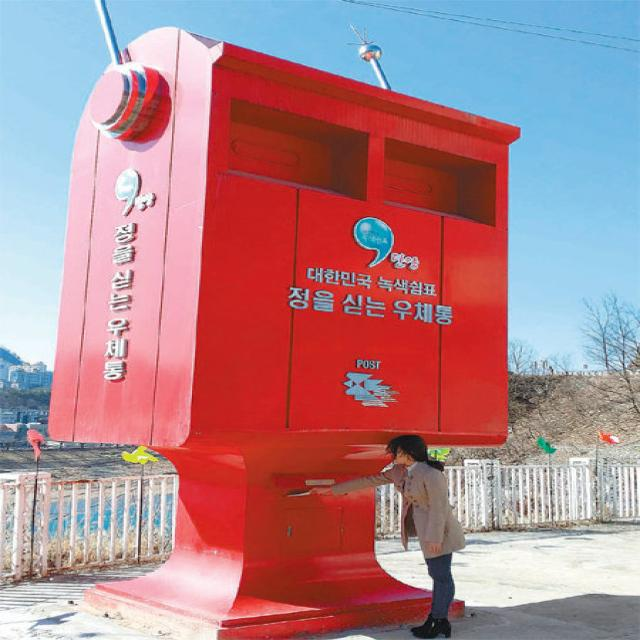Post Box: (52, 24, 525, 640)
